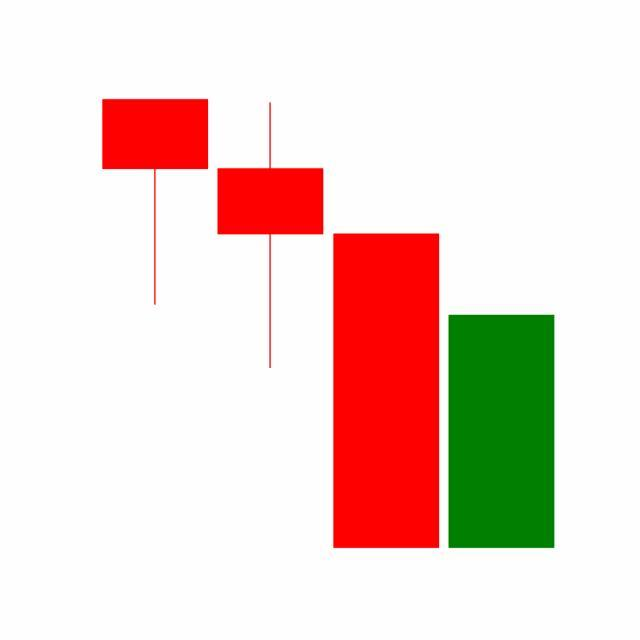Marubozu: (329, 231, 445, 552)
